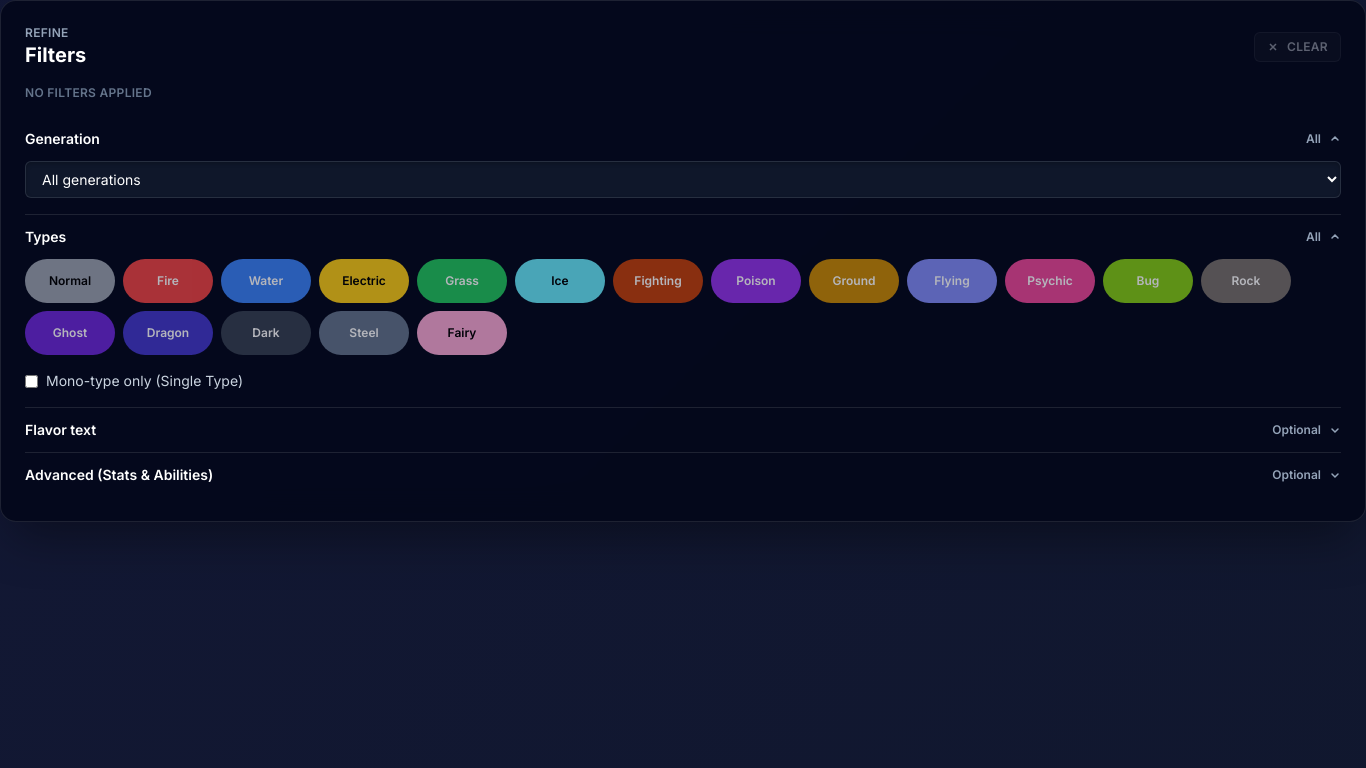
Test case: FilterControls Accessibility › has valid aria-controls and aria-expanded attributes on section toggles
Check: the element with id "filter-section-generation" is shown, box [25,161,1341,214]
Toggle it closed
Click the button "Generation All". click: (62, 138)
box: [25,117,1341,161]
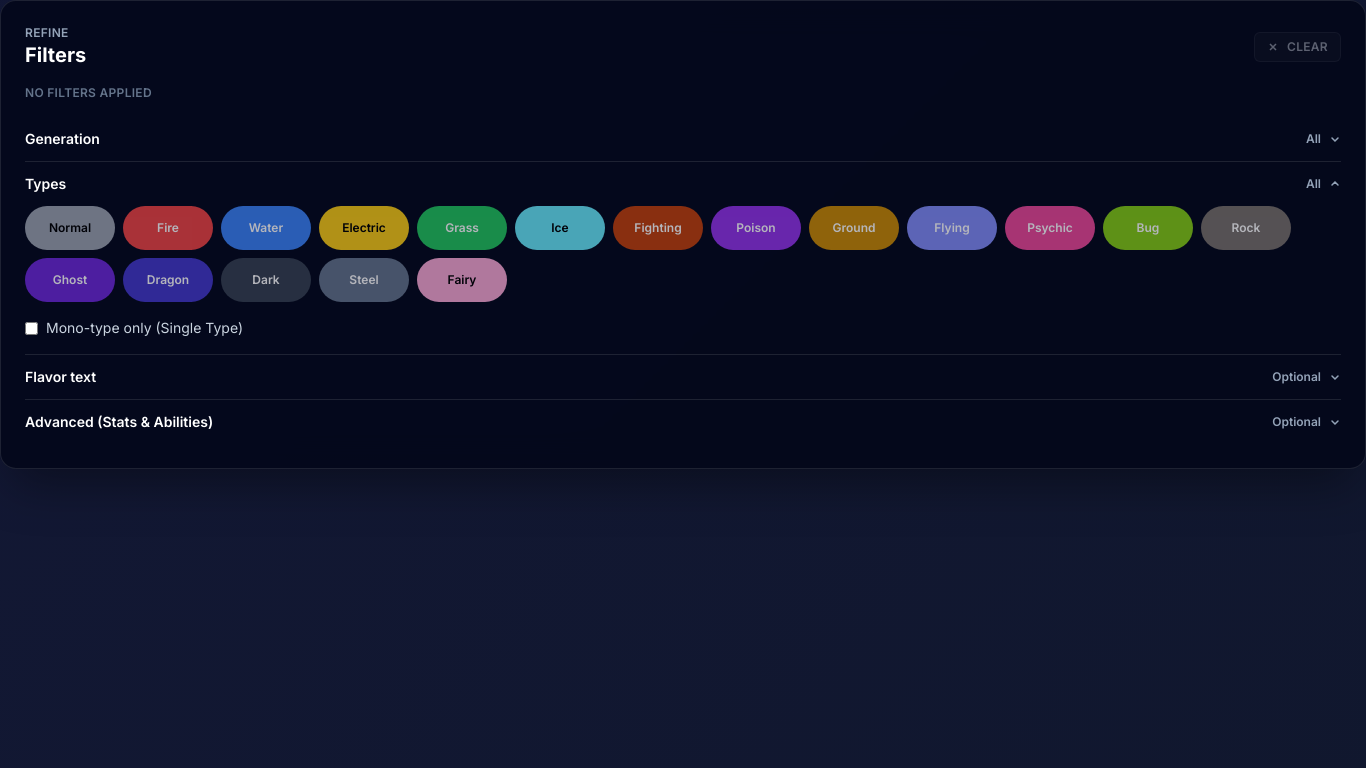
Check: the button "Generation All" is collapsed, box [25,117,1341,161]
Check: the element with id "filter-section-generation" is gone
